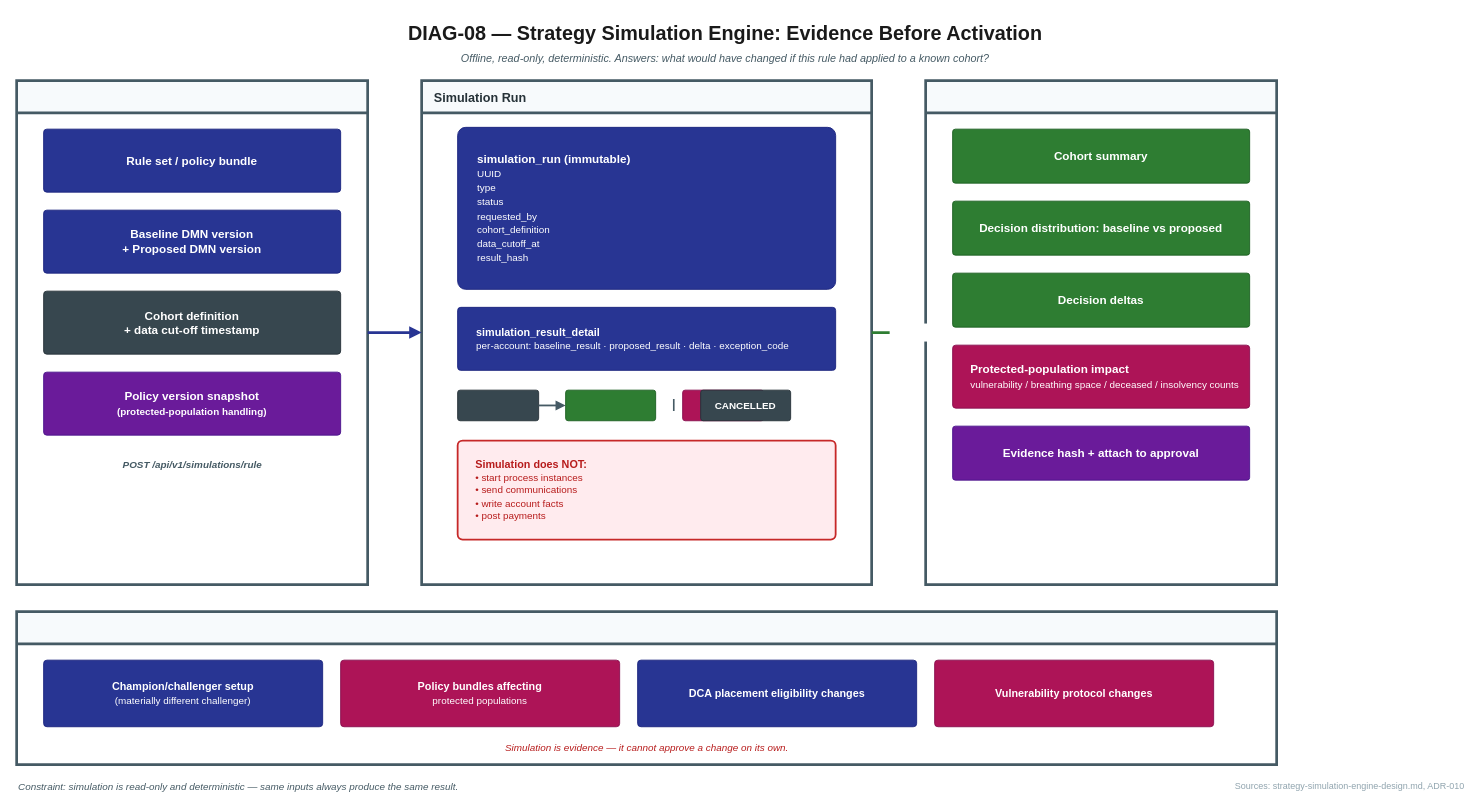
Some shapes in this 1481 by 810 pixel diagram are drawn without their labels. Each missing label, with the box of its shape:
COMPLETED: (565, 389, 656, 421)
Governance Gate — Simulation REQUIRED (not optional) when:: (15, 610, 1278, 765)
results: (889, 323, 943, 341)
RUNNING: (457, 389, 539, 421)
Simulation Inputs: (15, 79, 369, 585)
Simulation Outputs: (924, 79, 1278, 585)
